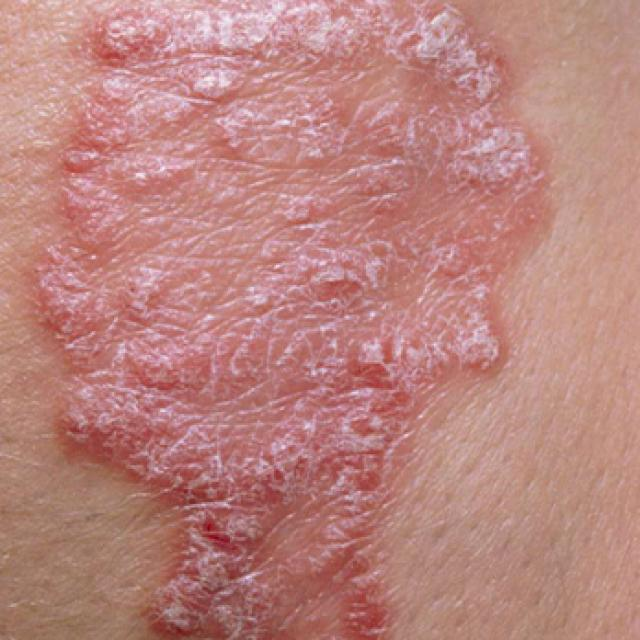Psoriasis: (30, 0, 548, 484), (136, 485, 412, 640)
